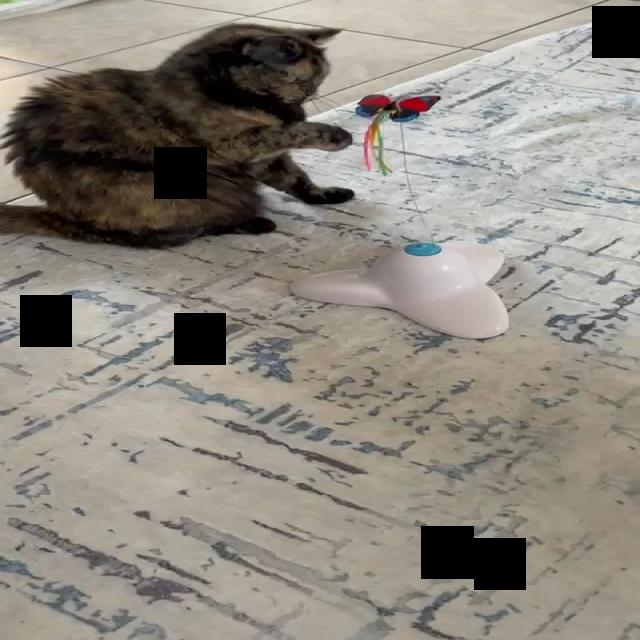authorized: (0, 22, 355, 250)
